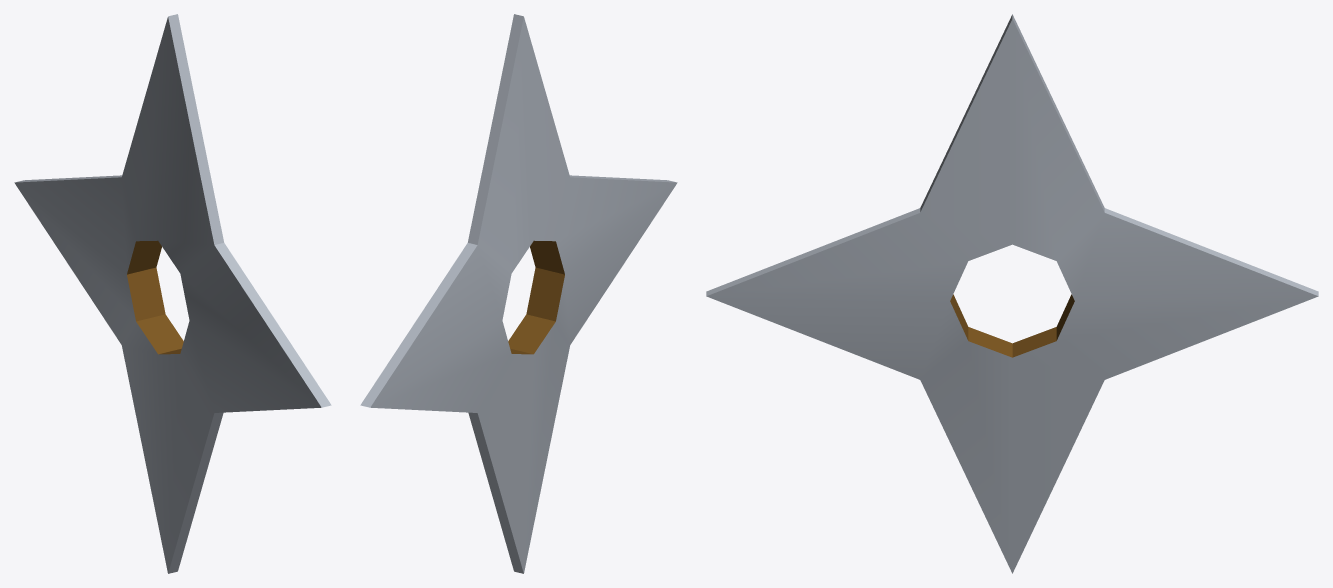
The model's file is shuriken.glb.
3 views of the same model, side by side, from view 1: azimuth 30°, elevation 25°; view 2: azimuth 150°, elevation 25°; view 3: azimuth 270°, elevation 25° (orthographic).
Visible parts, largest first — view 1: main; view 2: main; view 3: main.
Part boxes in pixels (x1,y1,x2,y2): main: (14, 14, 331, 573); main: (360, 14, 677, 573); main: (706, 14, 1318, 573).
Size of the model in its own units: 0.012 by 0.216 by 0.216.
2 materials, 2 textured.
